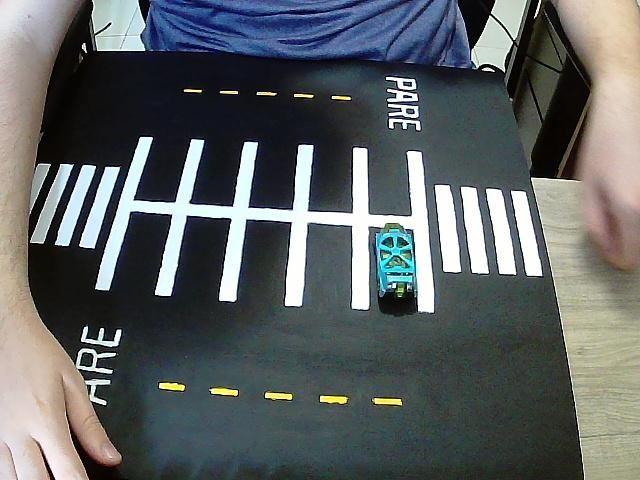Carro: (376, 223, 416, 298)
